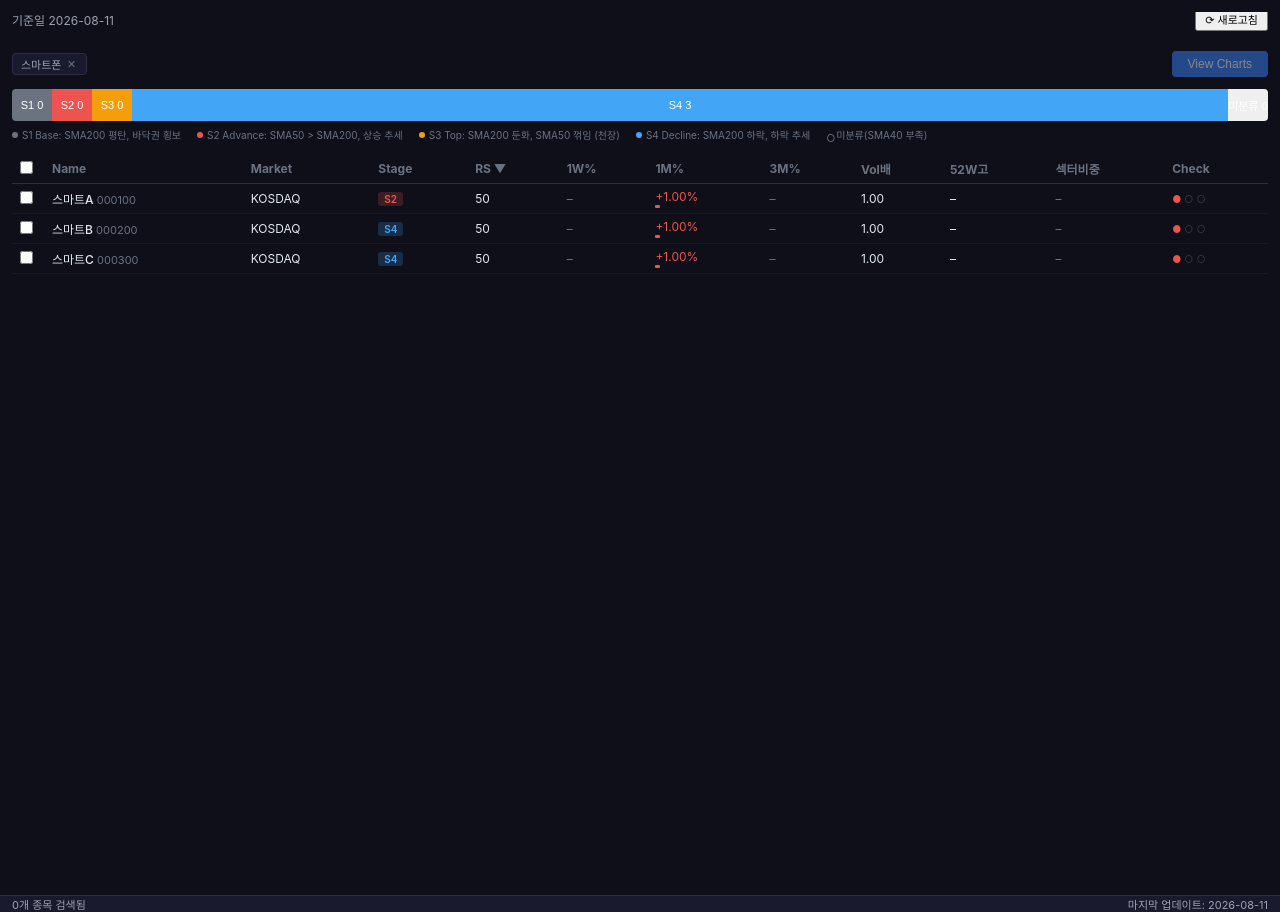
it: 푸터 종목 수 — 표시 중인 필터 결과와 일치 › Stage 세그먼트로 좁히면 푸터도 그 수를 따른다
(page scrolled)
Expected: the text "스마트A" is shown, [52,192,94,207]
Click the button named "Stage 2": (72, 105) [52,89,92,121]
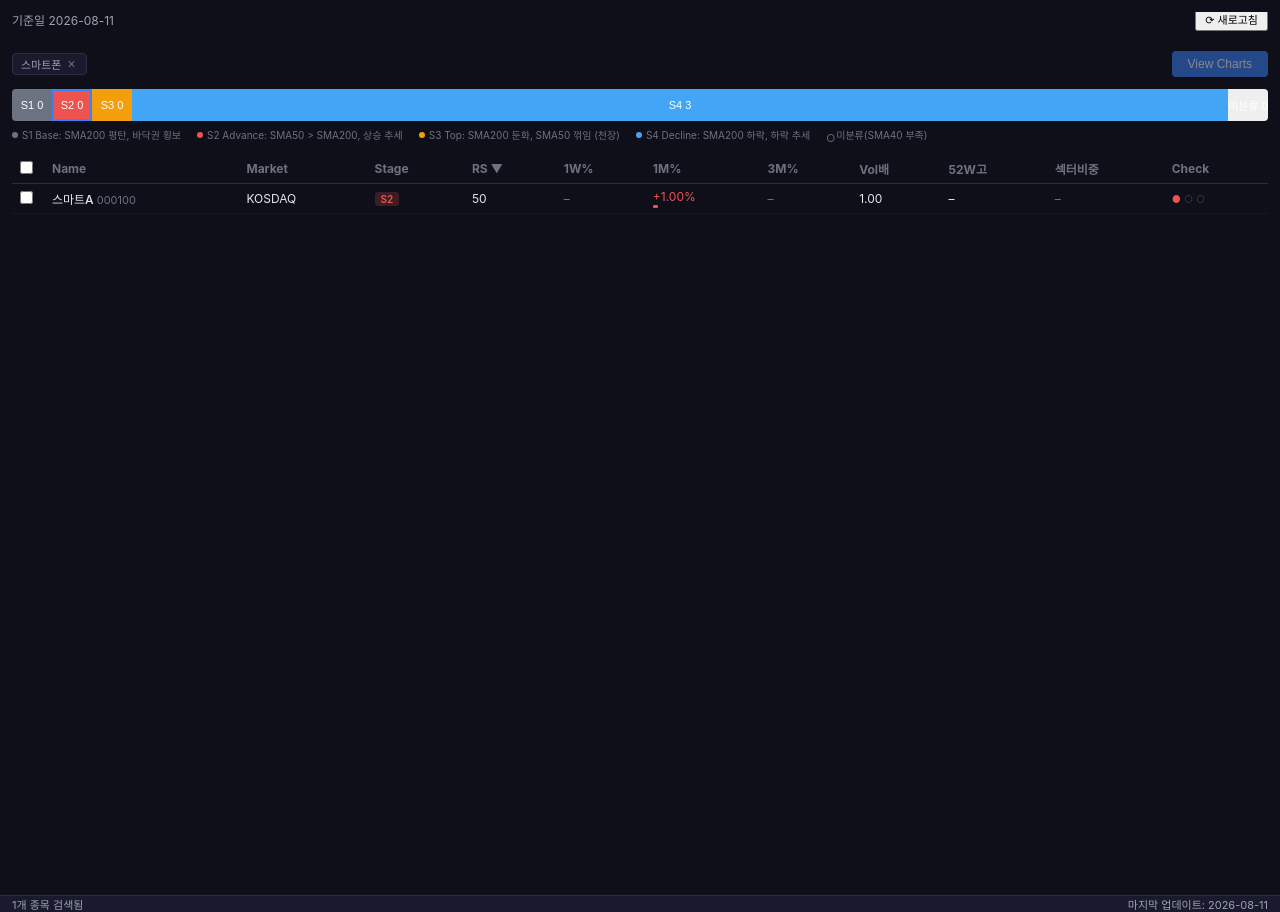
Expected: the text "1개 종목 검색됨" is shown, [12,896,83,911]
